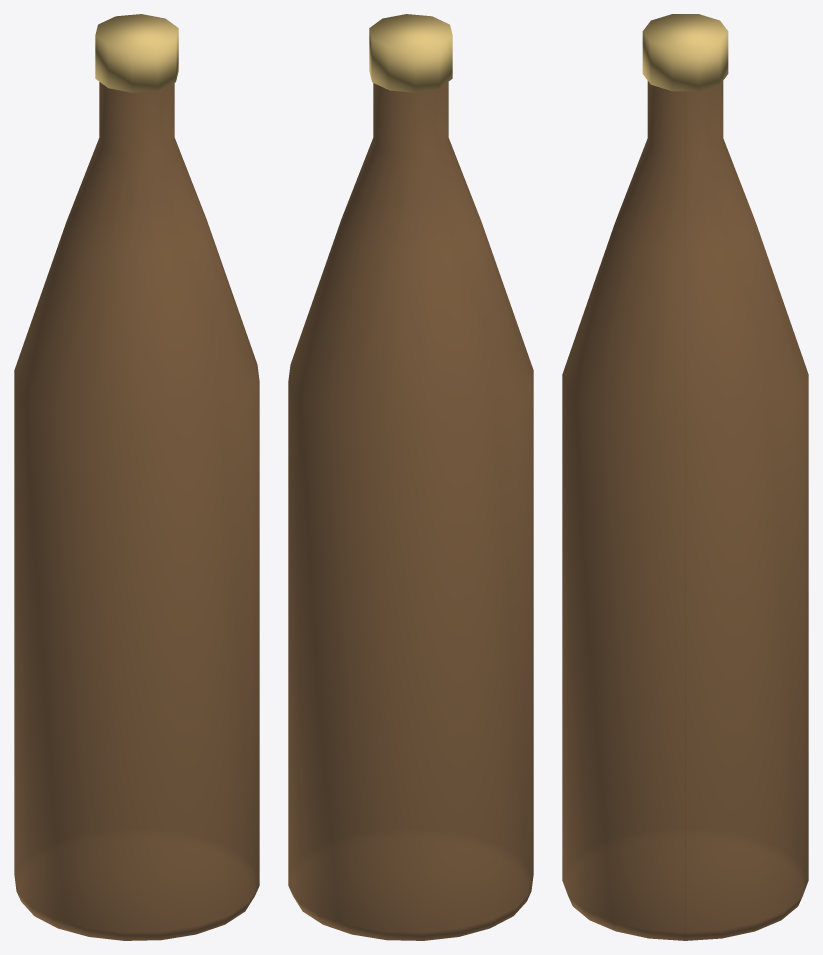
The model's file is SakeBottle.gltf.
3 views of the same model, side by side, from view 1: azimuth 30°, elevation 25°; view 2: azimuth 150°, elevation 25°; view 3: azimuth 270°, elevation 25° (orthographic).
Parts seen in each view (by area): view 1: A_SakeBottle; view 2: A_SakeBottle; view 3: A_SakeBottle.
Part boxes in pixels (<box>): A_SakeBottle: <box>14,14,259,940</box>; A_SakeBottle: <box>288,14,533,940</box>; A_SakeBottle: <box>562,14,808,940</box>.
Size of the model in its own units: 0.104 by 0.4 by 0.104.
